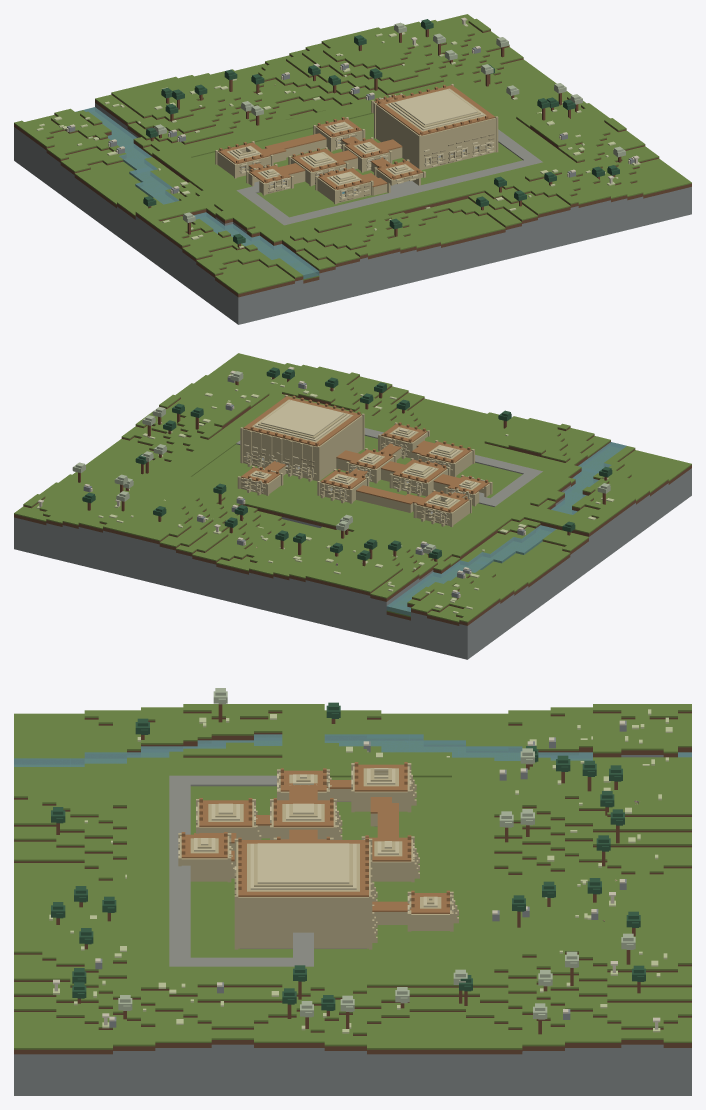
The model's file is sacred.glb.
3 views of the same model, one above another, from view 1: azimuth 30°, elevation 25°; view 2: azimuth 150°, elevation 25°; view 3: azimuth 270°, elevation 25° (orthographic). The views are drawn at different scales.
Visible parts, largest first — view 1: sacred/surface, sacred/terrain, sacred/sacred_dungeon/room_walls, sacred/vegetation, sacred/watercourses, sacred/sacred_dungeon/roof_arena, sacred/sacred_dungeon/floor_mesh, sacred/sacred_dungeon/exterior_details, sacred/sacred_dungeon/corridor_walls, sacred/outcrops, sacred/sacred_dungeon/roof_workshop, sacred/sacred_dungeon/roof_cistern (+5 smaller); view 2: sacred/surface, sacred/terrain, sacred/vegetation, sacred/sacred_dungeon/room_walls, sacred/sacred_dungeon/exterior_details, sacred/watercourses, sacred/sacred_dungeon/roof_arena, sacred/sacred_dungeon/floor_mesh, sacred/sacred_dungeon/corridor_walls, sacred/outcrops, sacred/sacred_dungeon/roof_workshop, sacred/sacred_dungeon/roof_cistern (+4 smaller); view 3: sacred/surface, sacred/terrain, sacred/vegetation, sacred/sacred_dungeon/room_walls, sacred/sacred_dungeon/roof_arena, sacred/sacred_dungeon/floor_mesh, sacred/watercourses, sacred/sacred_dungeon/exterior_details, sacred/sacred_dungeon/roof_workshop, sacred/sacred_dungeon/roof_production, sacred/sacred_dungeon/roof_cistern, sacred/outcrops (+6 smaller).
Boxes of the visible parts, x1=… form: sacred/surface: x1=14, y1=14, x2=691, y2=294; sacred/terrain: x1=14, y1=22, x2=691, y2=324; sacred/sacred_dungeon/room_walls: x1=217, y1=102, x2=495, y2=203; sacred/vegetation: x1=36, y1=19, x2=625, y2=248; sacred/watercourses: x1=75, y1=107, x2=319, y2=279; sacred/sacred_dungeon/roof_arena: x1=377, y1=84, x2=495, y2=135; sacred/sacred_dungeon/floor_mesh: x1=236, y1=129, x2=542, y2=225; sacred/sacred_dungeon/exterior_details: x1=215, y1=84, x2=498, y2=204; sacred/sacred_dungeon/corridor_walls: x1=248, y1=139, x2=402, y2=195; sacred/outcrops: x1=66, y1=46, x2=634, y2=193; sacred/sacred_dungeon/roof_workshop: x1=291, y1=148, x2=345, y2=171; sacred/sacred_dungeon/roof_cistern: x1=318, y1=167, x2=370, y2=189; sacred/surface: x1=14, y1=353, x2=691, y2=622; sacred/terrain: x1=14, y1=375, x2=691, y2=659; sacred/vegetation: x1=72, y1=367, x2=612, y2=613; sacred/sacred_dungeon/room_walls: x1=240, y1=415, x2=490, y2=525; sacred/sacred_dungeon/exterior_details: x1=237, y1=395, x2=492, y2=526; sacred/watercourses: x1=386, y1=442, x2=626, y2=616; sacred/sacred_dungeon/roof_arena: x1=243, y1=395, x2=361, y2=446; sacred/sacred_dungeon/floor_mesh: x1=236, y1=428, x2=542, y2=516; sacred/sacred_dungeon/corridor_walls: x1=279, y1=447, x2=464, y2=512; sacred/outcrops: x1=83, y1=374, x2=525, y2=598; sacred/sacred_dungeon/roof_workshop: x1=393, y1=459, x2=446, y2=482; sacred/sacred_dungeon/roof_cistern: x1=419, y1=441, x2=471, y2=463; sacred/surface: x1=14, y1=704, x2=691, y2=1049; sacred/terrain: x1=14, y1=711, x2=691, y2=1095; sacred/vegetation: x1=49, y1=688, x2=672, y2=1034; sacred/sacred_dungeon/room_walls: x1=180, y1=766, x2=451, y2=948; sacred/sacred_dungeon/roof_arena: x1=238, y1=837, x2=368, y2=896; sacred/sacred_dungeon/floor_mesh: x1=169, y1=775, x2=377, y2=966; sacred/watercourses: x1=14, y1=734, x2=691, y2=766; sacred/sacred_dungeon/exterior_details: x1=178, y1=763, x2=458, y2=949; sacred/sacred_dungeon/roof_workshop: x1=273, y1=798, x2=333, y2=827; sacred/sacred_dungeon/roof_production: x1=354, y1=762, x2=407, y2=791; sacred/sacred_dungeon/roof_cistern: x1=199, y1=798, x2=252, y2=827; sacred/outcrops: x1=95, y1=720, x2=626, y2=1027.
Bounding box in the file's own units: 224 × 36 × 192.
